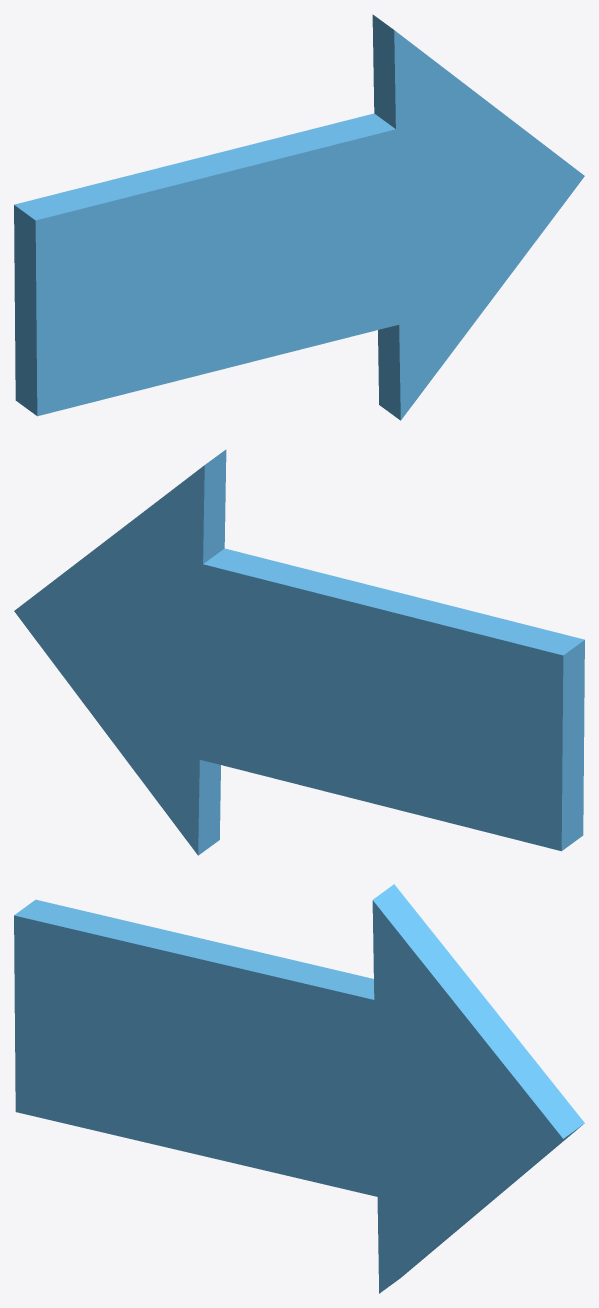
File: ArrowRight.gltf
3 views of the same model, one above another, from view 1: azimuth 30°, elevation 25°; view 2: azimuth 150°, elevation 25°; view 3: azimuth 330°, elevation 25° (orthographic).
Visible parts, largest first — view 1: Arrow; view 2: Arrow; view 3: Arrow.
Part boxes in pixels (bbox=[...]): Arrow: bbox=[14, 14, 584, 420]; Arrow: bbox=[14, 449, 584, 855]; Arrow: bbox=[14, 884, 584, 1293].
Bounding box in the file's own units: 7.32 × 5 × 0.5.
